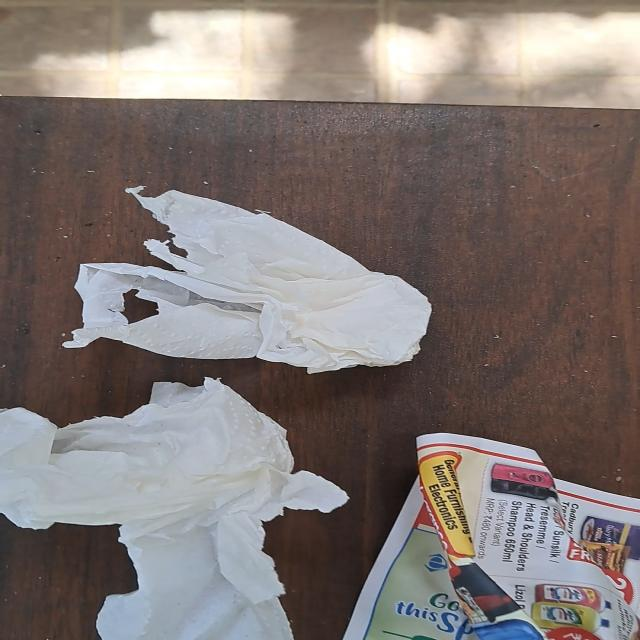Organik: (3, 370, 358, 640), (62, 174, 442, 384), (329, 428, 637, 640)
